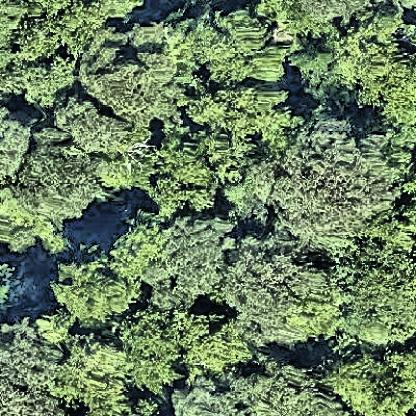tree-top: (264, 119, 399, 250), (220, 229, 323, 332), (317, 22, 412, 124), (47, 242, 139, 328), (116, 302, 197, 397), (81, 44, 180, 120), (17, 141, 99, 225), (188, 9, 276, 87), (190, 85, 295, 148), (340, 256, 412, 344), (228, 360, 338, 416), (166, 211, 227, 302), (58, 334, 126, 414), (11, 0, 106, 57), (331, 347, 410, 415), (182, 309, 257, 380), (151, 142, 219, 220), (1, 322, 56, 416), (45, 90, 126, 148), (6, 51, 82, 112), (262, 0, 366, 40), (170, 373, 254, 416), (219, 156, 270, 217), (0, 99, 31, 181), (0, 250, 22, 317), (87, 0, 151, 21), (130, 395, 157, 416)
